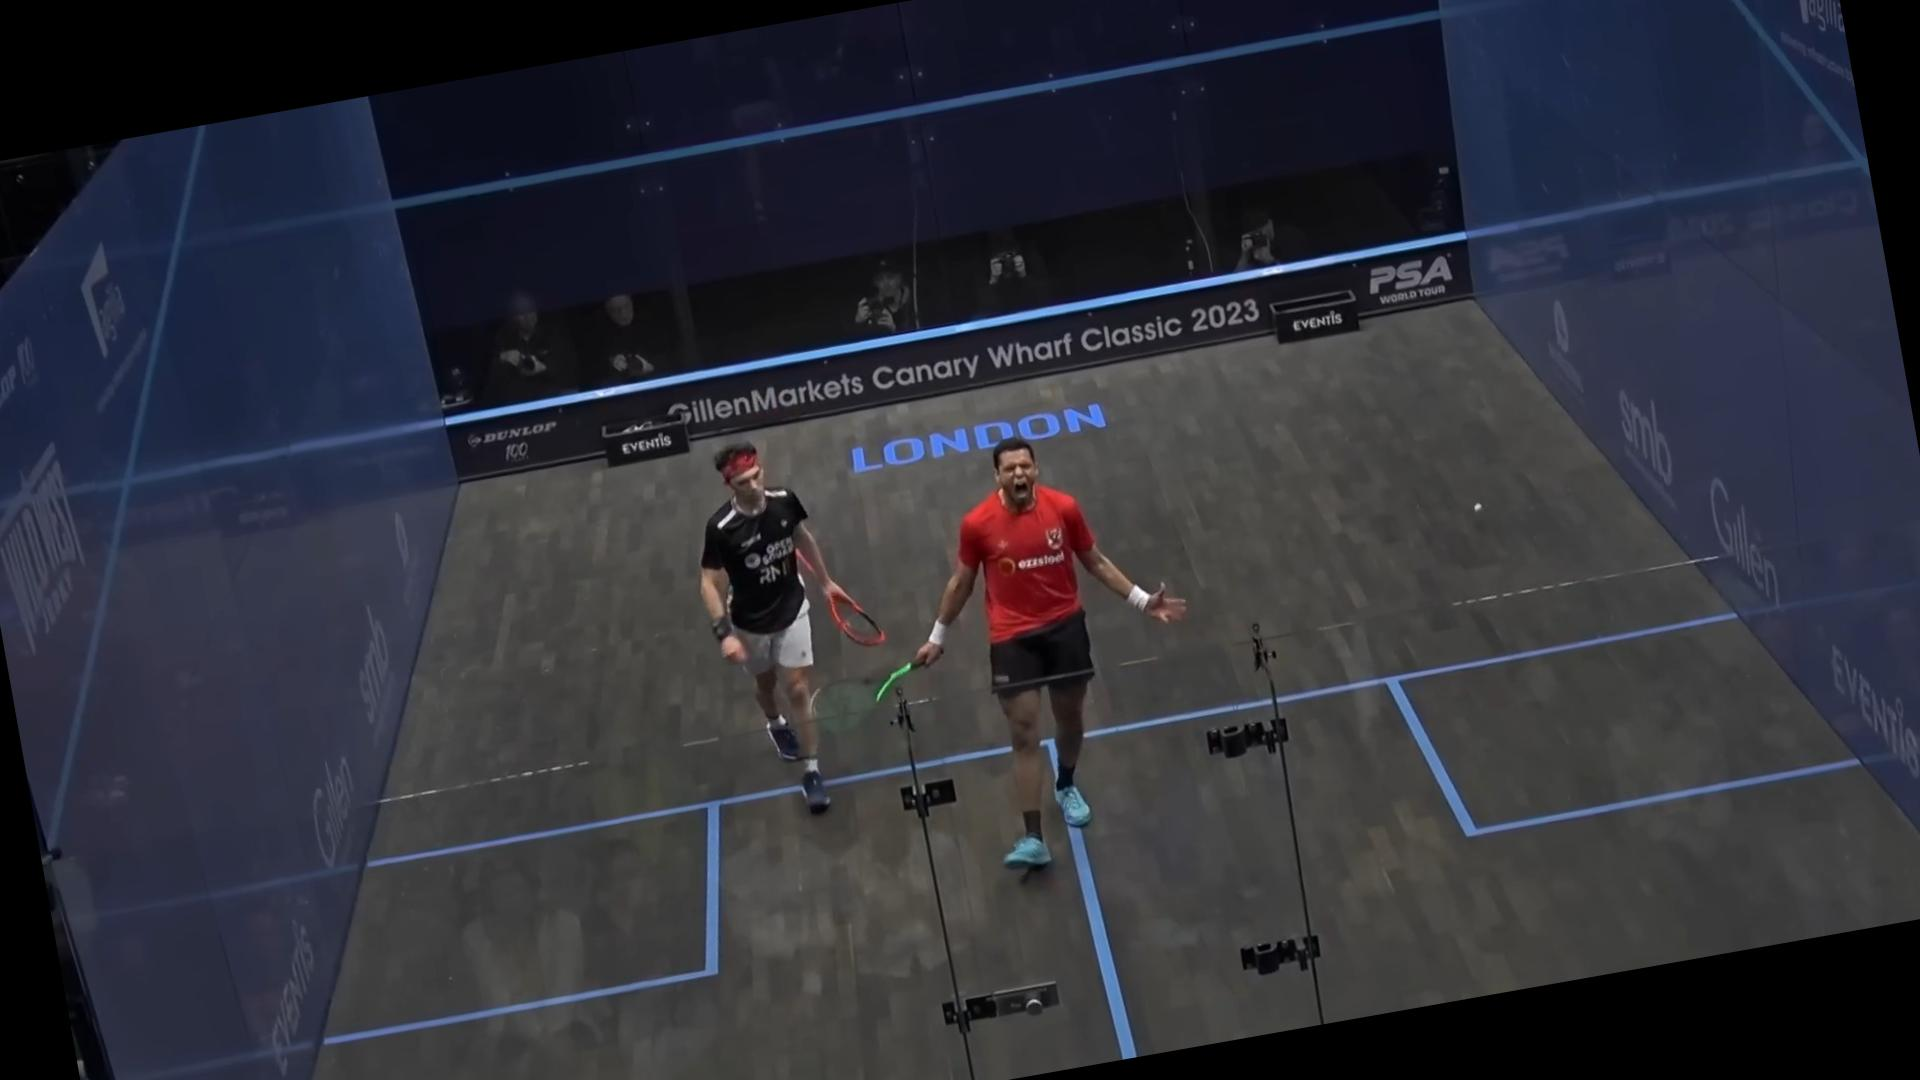Racket: (783, 667, 936, 785), (800, 553, 886, 647)
